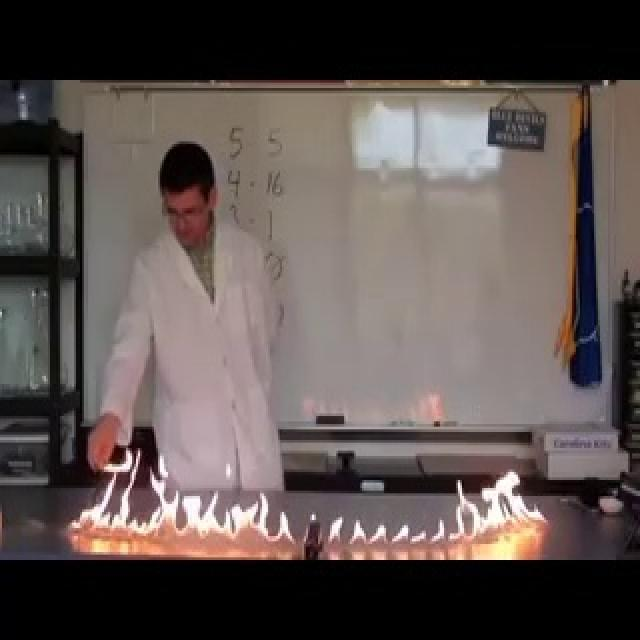fire: (61, 452, 296, 546), (451, 462, 550, 544), (327, 494, 444, 550)
